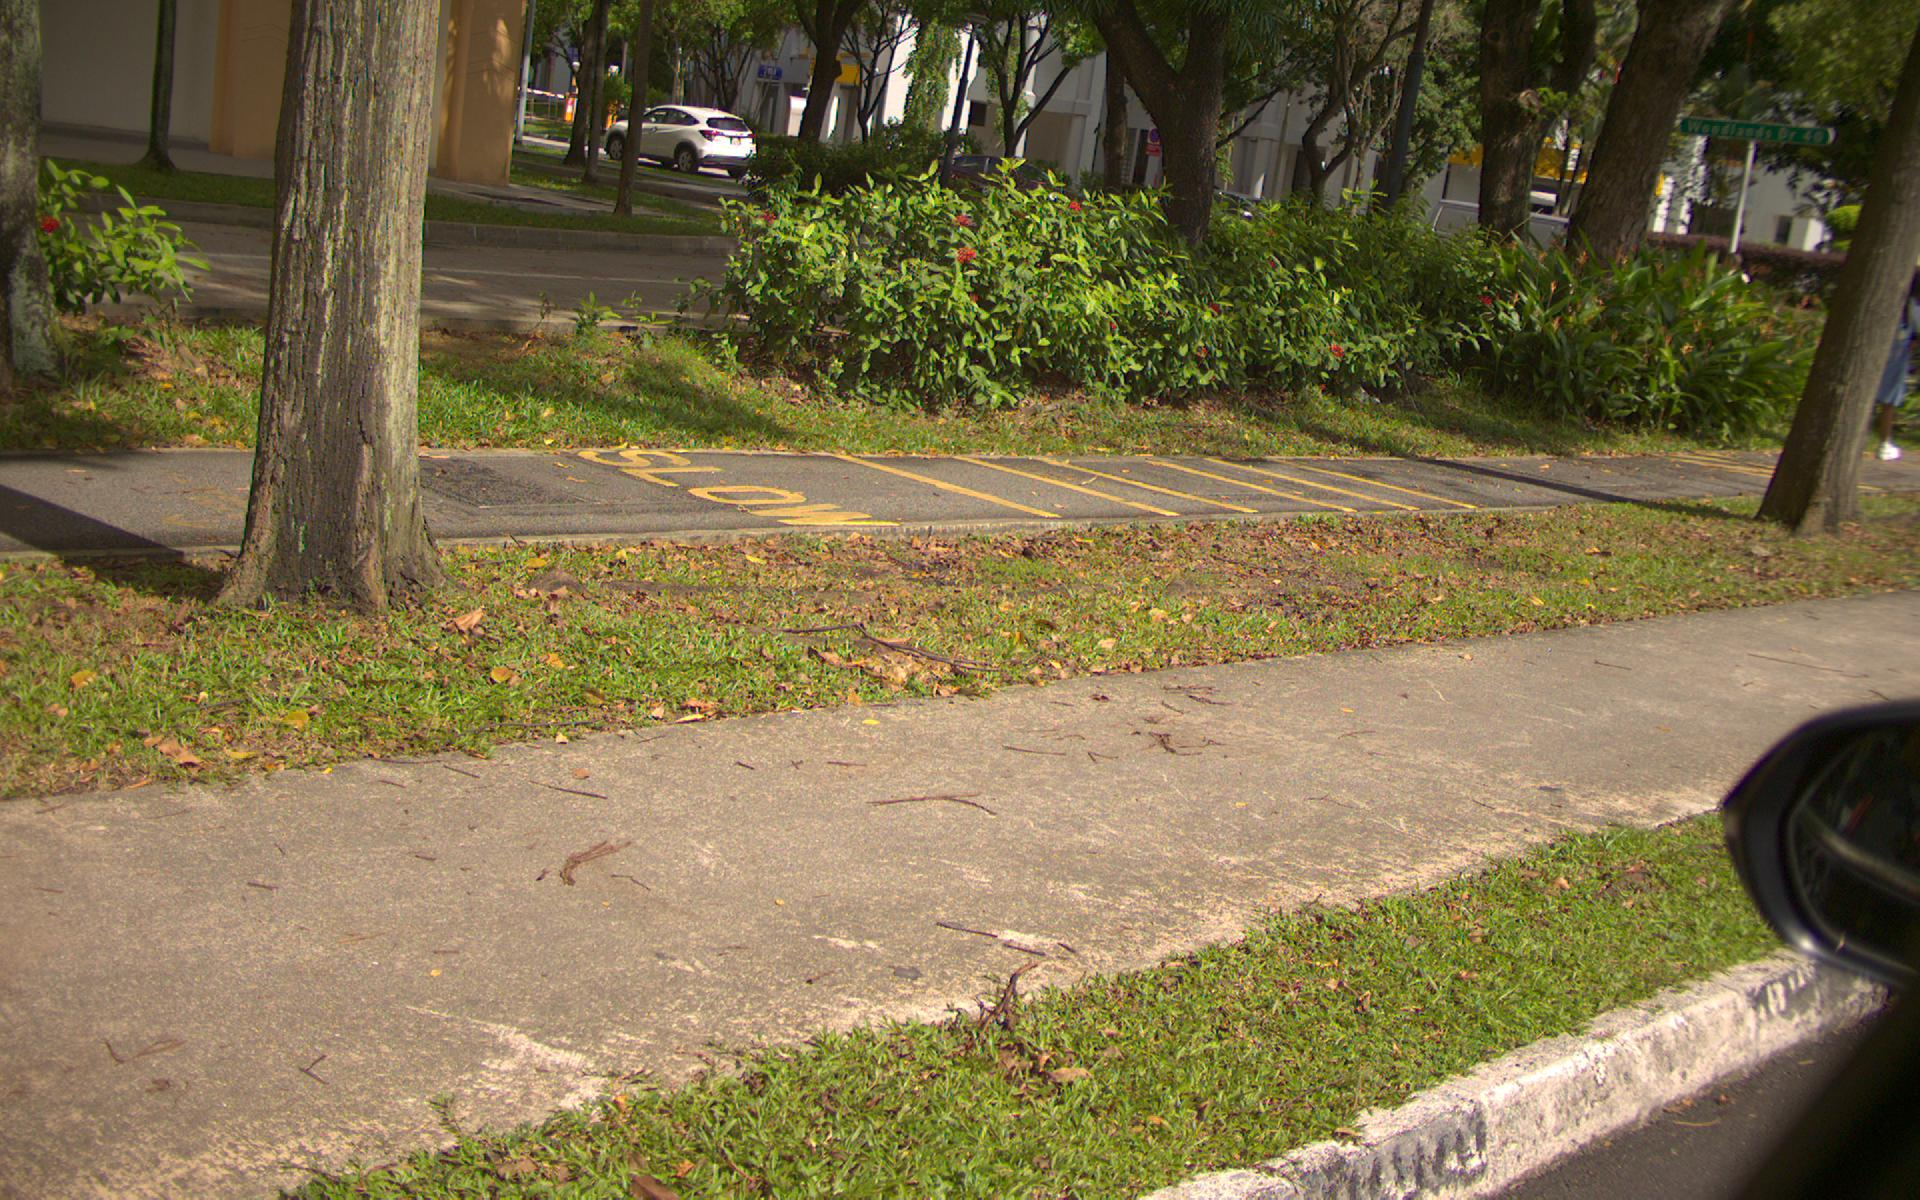pathway_low: (47, 800, 943, 1005), (15, 449, 1754, 496)
road_turf_low: (426, 336, 1754, 447), (6, 571, 1069, 682)
